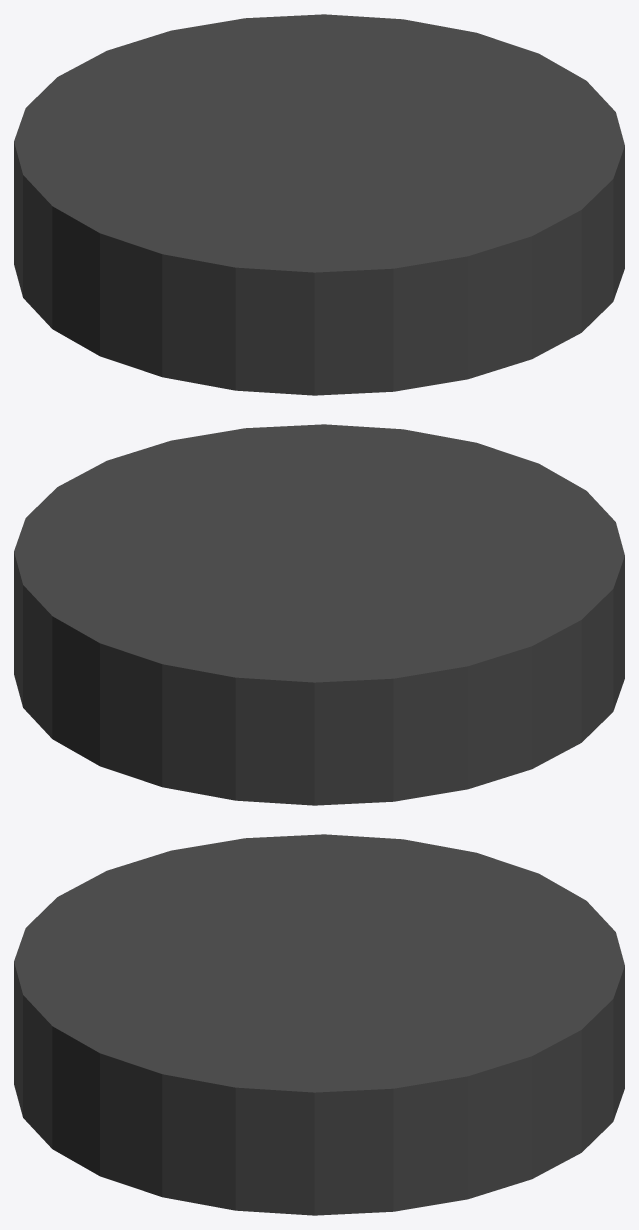
Rendered from hockeypuck.obj.
3 views of the same model, one above another, from view 1: azimuth 30°, elevation 25°; view 2: azimuth 150°, elevation 25°; view 3: azimuth 270°, elevation 25° (orthographic).
Visible parts, largest first — view 1: Puck_Puck.001; view 2: Puck_Puck.001; view 3: Puck_Puck.001.
Part boxes in pixels (x1,y1,x2,y2): Puck_Puck.001: (14, 14, 624, 395); Puck_Puck.001: (14, 424, 624, 805); Puck_Puck.001: (14, 834, 624, 1215).
Bounding box in the file's own units: 2.25 × 0.5 × 2.25.
1 material, 1 textured.
